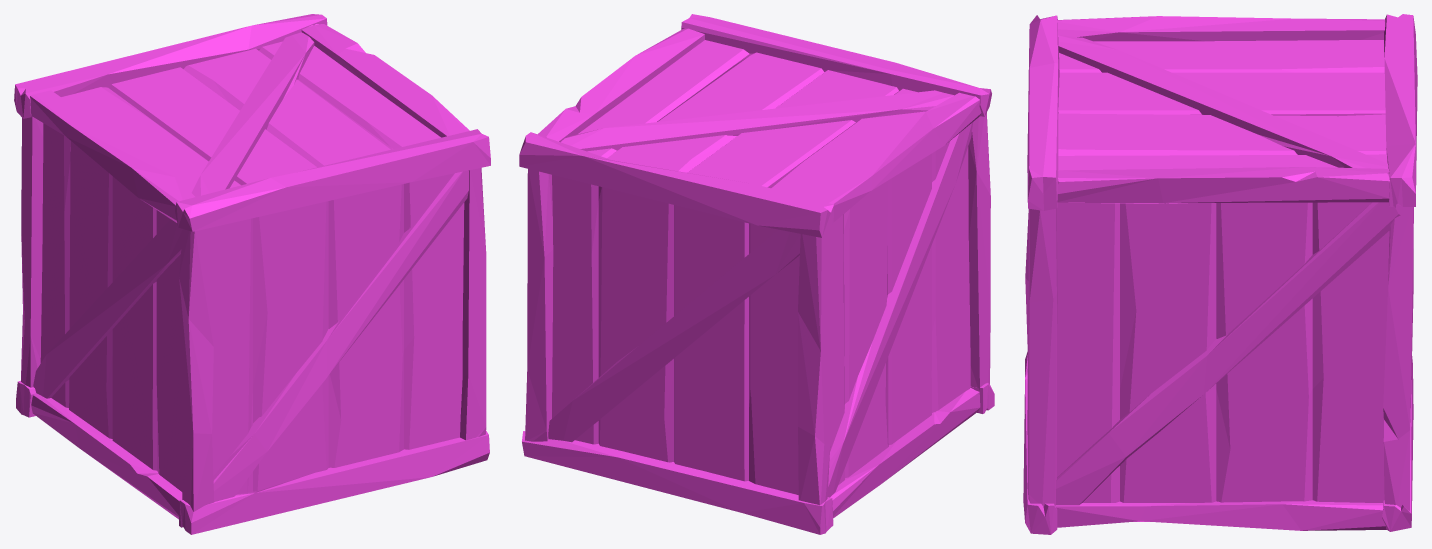
The model's file is SM_Box_Fantasy.fbx.
3 views of the same model, side by side, from view 1: azimuth 30°, elevation 25°; view 2: azimuth 150°, elevation 25°; view 3: azimuth 270°, elevation 25° (orthographic). The views are drawn at different scales.
Parts seen in each view (by area): view 1: SM_Box_Wooden_Fantasy; view 2: SM_Box_Wooden_Fantasy; view 3: SM_Box_Wooden_Fantasy.
Part boxes in pixels (<box>): SM_Box_Wooden_Fantasy: <box>14,14,490,534</box>; SM_Box_Wooden_Fantasy: <box>519,14,994,534</box>; SM_Box_Wooden_Fantasy: <box>1023,14,1417,534</box>.
Size of the model in its own units: 0.9908 by 1.02 by 1.
